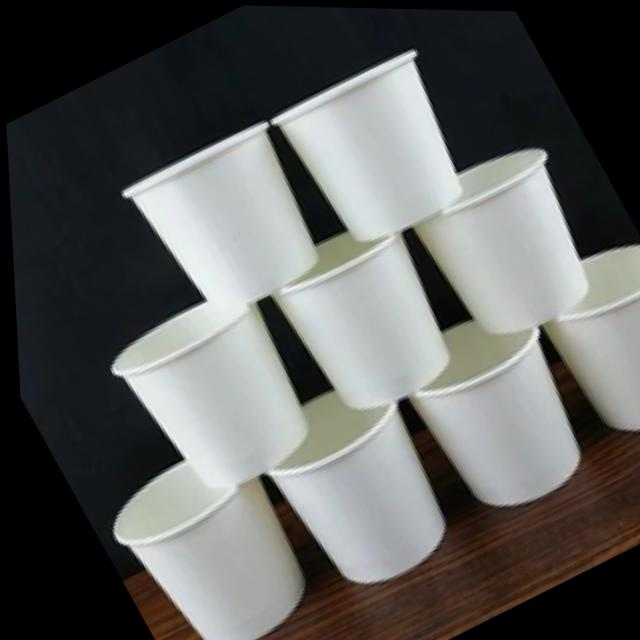paper_cups: (380, 283, 613, 528), (241, 362, 469, 606), (96, 280, 327, 513), (249, 202, 475, 432), (394, 128, 619, 355), (86, 429, 326, 640), (115, 109, 342, 330), (265, 41, 490, 259), (519, 225, 640, 450)
